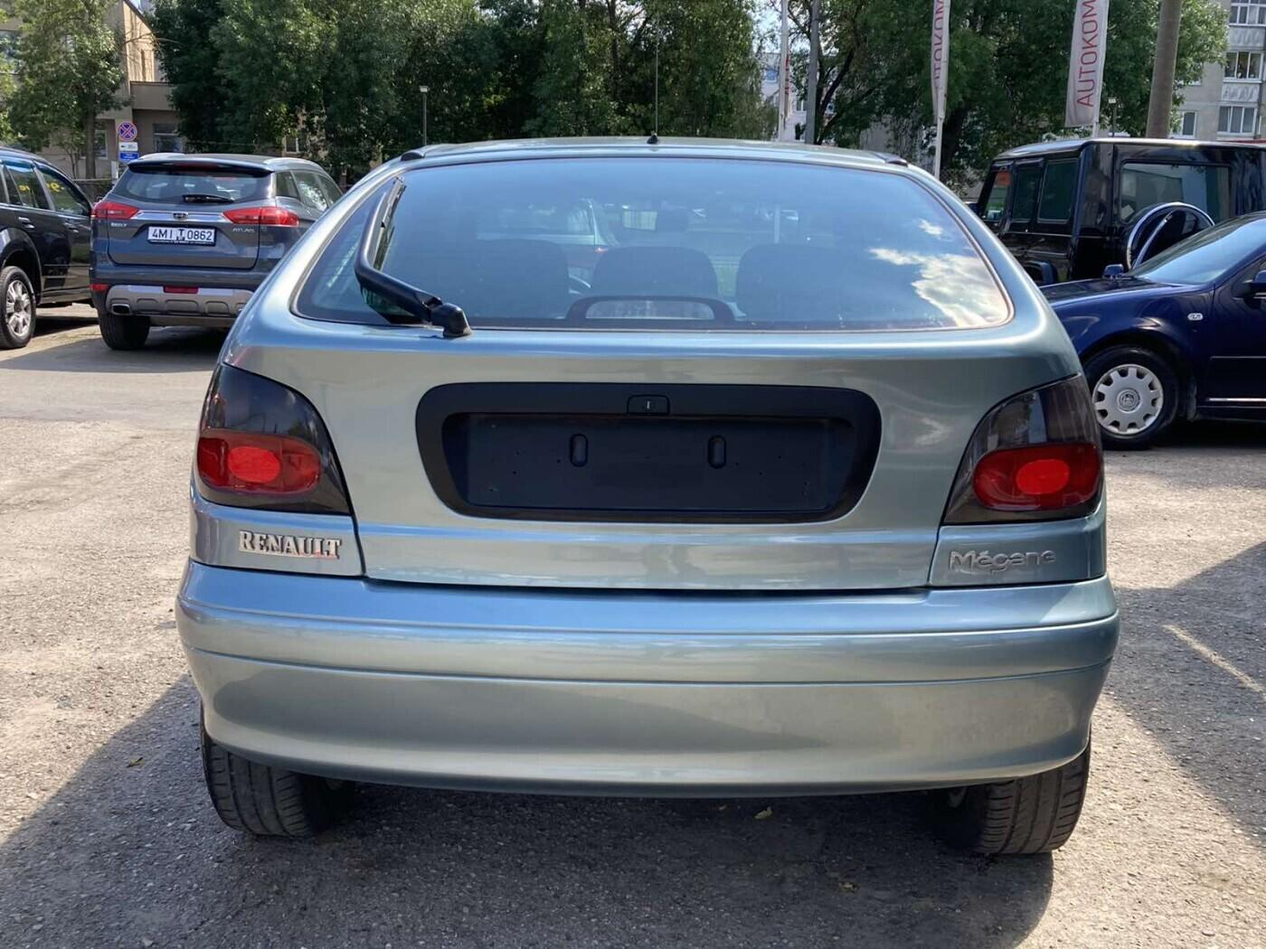Megane_1995-1999: (151, 129, 1116, 890)
